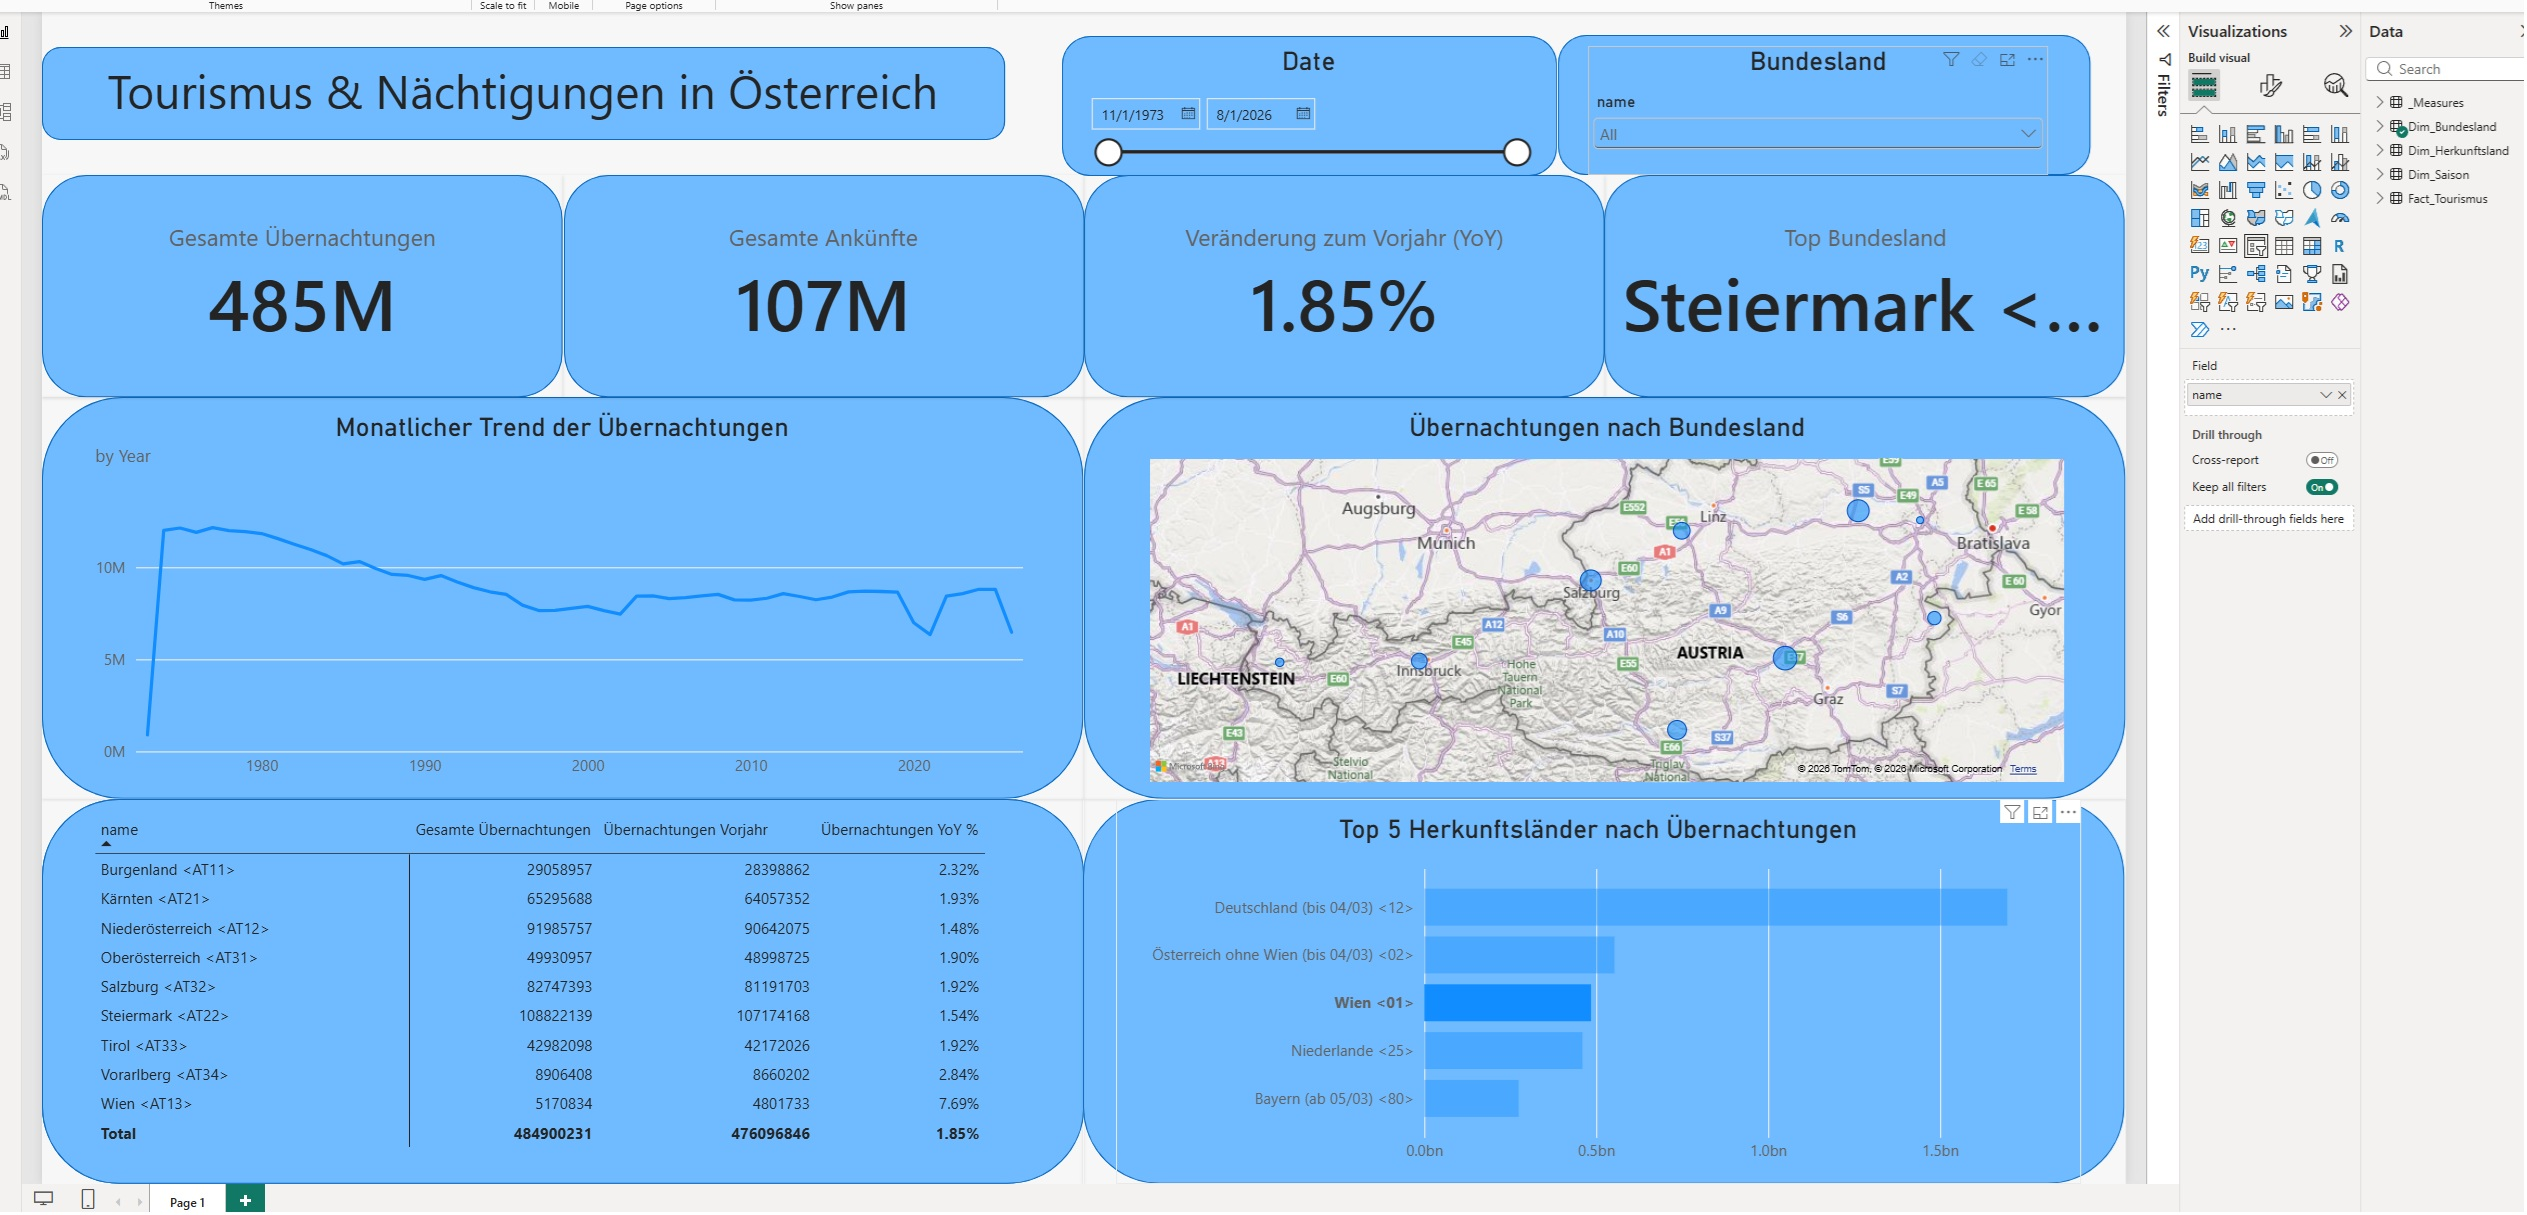

The page's visual inventory and layout, read from the dashboard file:
{"tool":"powerbi","page":{"name":"Page 1","canvas":[1920,1080],"ordinal":0},"visuals":[{"type":"shape","box":[0,31.6,887.6,85.7],"z":0,"group":"g1"},{"type":"group","id":"g1","title":"background","box":[0,20.8,1920,1059],"z":500},{"type":"shape","box":[939.7,22,456.1,129.1],"z":1000,"group":"g1"},{"type":"slicer","title":"Date","fields":{"Values":["Dim_Saison.Date"]},"box":[959.5,31.6,416,118.6],"z":1000},{"type":"shape","box":[1396.9,20.8,490.6,129.1],"z":2000,"group":"g1"},{"type":"slicer","title":"Bundesland","fields":{"Values":["Dim_Bundesland.name"]},"box":[1424.9,31.6,423.9,118.6],"z":2000},{"type":"shape","box":[0,149.9,479.8,204.9],"z":3000,"group":"g1"},{"type":"pivotTable","fields":{"Rows":["Dim_Bundesland.name"],"Values":["_Measures.Gesamte Übernachtungen","_Measures.Übernachtungen Vorjahr","_Measures.Übernachtungen YoY %"]},"box":[33.6,725.3,884.4,354.8],"z":3000},{"type":"shape","box":[480.7,149.9,479.8,204.9],"z":4000,"group":"g1"},{"type":"lineChart","fields":{"Category":["Dim_Saison.Date.Variation.Date Hierarchy.Year","Dim_Saison.Date.Variation.Date Hierarchy.Quarter","Dim_Saison.Date.Variation.Date Hierarchy.Month","Dim_Saison.Date.Variation.Date Hierarchy.Day"],"Y":["_Measures.Gesamte Übernachtungen"]},"box":[33.6,354.8,892.3,370.6],"z":4000},{"type":"shape","box":[960.5,149.9,479.8,204.9],"z":5000,"group":"g1"},{"type":"map","title":"Übernachtungen nach Bundesland","fields":{"Category":["Dim_Bundesland.name"],"Size":["_Measures.Gesamte Übernachtungen"]},"box":[1005,354.8,873.5,370.6],"z":5000},{"type":"shape","box":[1439.3,149.9,479.8,204.9],"z":6000,"group":"g1"},{"type":"cardVisual","fields":{"Data":["_Measures.Gesamte Übernachtungen"]},"box":[0,150.2,480,204.9],"z":6000},{"type":"cardVisual","fields":{"Data":["_Measures.Gesamte Ankünfte"]},"box":[480,150.1,480,204.9],"z":7000},{"type":"shape","box":[0,354.8,959.5,370.4],"z":7000,"group":"g1"},{"type":"cardVisual","fields":{"Data":["_Measures.Übernachtungen YoY %"]},"box":[960,150.1,480,204.9],"z":8000},{"type":"shape","box":[960.5,354.8,959.5,370.4],"z":8000,"group":"g1"},{"type":"cardVisual","fields":{"Data":["_Measures.Top Bundesland"]},"box":[1440,150.1,480,204.9],"z":9000},{"type":"shape","box":[0,725.2,959.5,354.6],"z":9000,"group":"g1"},{"type":"shape","box":[0,725.2,960.5,354.6],"z":10000,"group":"g1"},{"type":"clusteredBarChart","title":"Top 5 Herkunftsländer nach Übernachtungen","fields":{"Category":["Dim_Herkunftsland.name"],"Y":["_Measures.Gesamte Übernachtungen"]},"box":[990.1,725.3,888.4,354.8],"z":10000},{"type":"textbox","box":[19.8,43.5,847.2,65],"z":11000},{"type":"shape","box":[959.5,725.2,959.5,354.6],"z":11000,"group":"g1"}]}

Visuals, with their boxes in screenshot pixels (x1, y1, x2, y2):
shape: <bbox>33, 47, 985, 139</bbox>
"background" group: <bbox>33, 35, 2092, 1171</bbox>
shape: <bbox>1041, 37, 1530, 175</bbox>
"Date" slicer: <bbox>1062, 47, 1508, 174</bbox>
shape: <bbox>1531, 35, 2057, 174</bbox>
"Bundesland" slicer: <bbox>1561, 47, 2015, 174</bbox>
shape: <bbox>33, 174, 547, 394</bbox>
pivotTable - Dim_Bundesland.name x _Measures.Gesamte Übernachtungen: <bbox>69, 791, 1017, 1171</bbox>
shape: <bbox>548, 174, 1063, 394</bbox>
lineChart - Dim_Saison.Date.Variation.Date Hierarchy.Year x Dim_Saison.Date.Variation.Date Hierarchy.Quarter: <bbox>69, 394, 1026, 791</bbox>
shape: <bbox>1063, 174, 1577, 394</bbox>
"Übernachtungen nach Bundesland" map: <bbox>1111, 394, 2047, 791</bbox>
shape: <bbox>1576, 174, 2091, 394</bbox>
cardVisual - _Measures.Gesamte Übernachtungen: <bbox>33, 174, 548, 394</bbox>
cardVisual - _Measures.Gesamte Ankünfte: <bbox>548, 174, 1062, 394</bbox>
shape: <bbox>33, 394, 1062, 791</bbox>
cardVisual - _Measures.Übernachtungen YoY %: <bbox>1062, 174, 1577, 394</bbox>
shape: <bbox>1063, 394, 2092, 791</bbox>
cardVisual - _Measures.Top Bundesland: <bbox>1577, 174, 2092, 394</bbox>
shape: <bbox>33, 791, 1062, 1171</bbox>
shape: <bbox>33, 791, 1063, 1171</bbox>
"Top 5 Herkunftsländer nach Übernachtungen" clusteredBarChart: <bbox>1095, 791, 2047, 1171</bbox>
textbox: <bbox>54, 60, 963, 130</bbox>
shape: <bbox>1062, 791, 2091, 1171</bbox>
